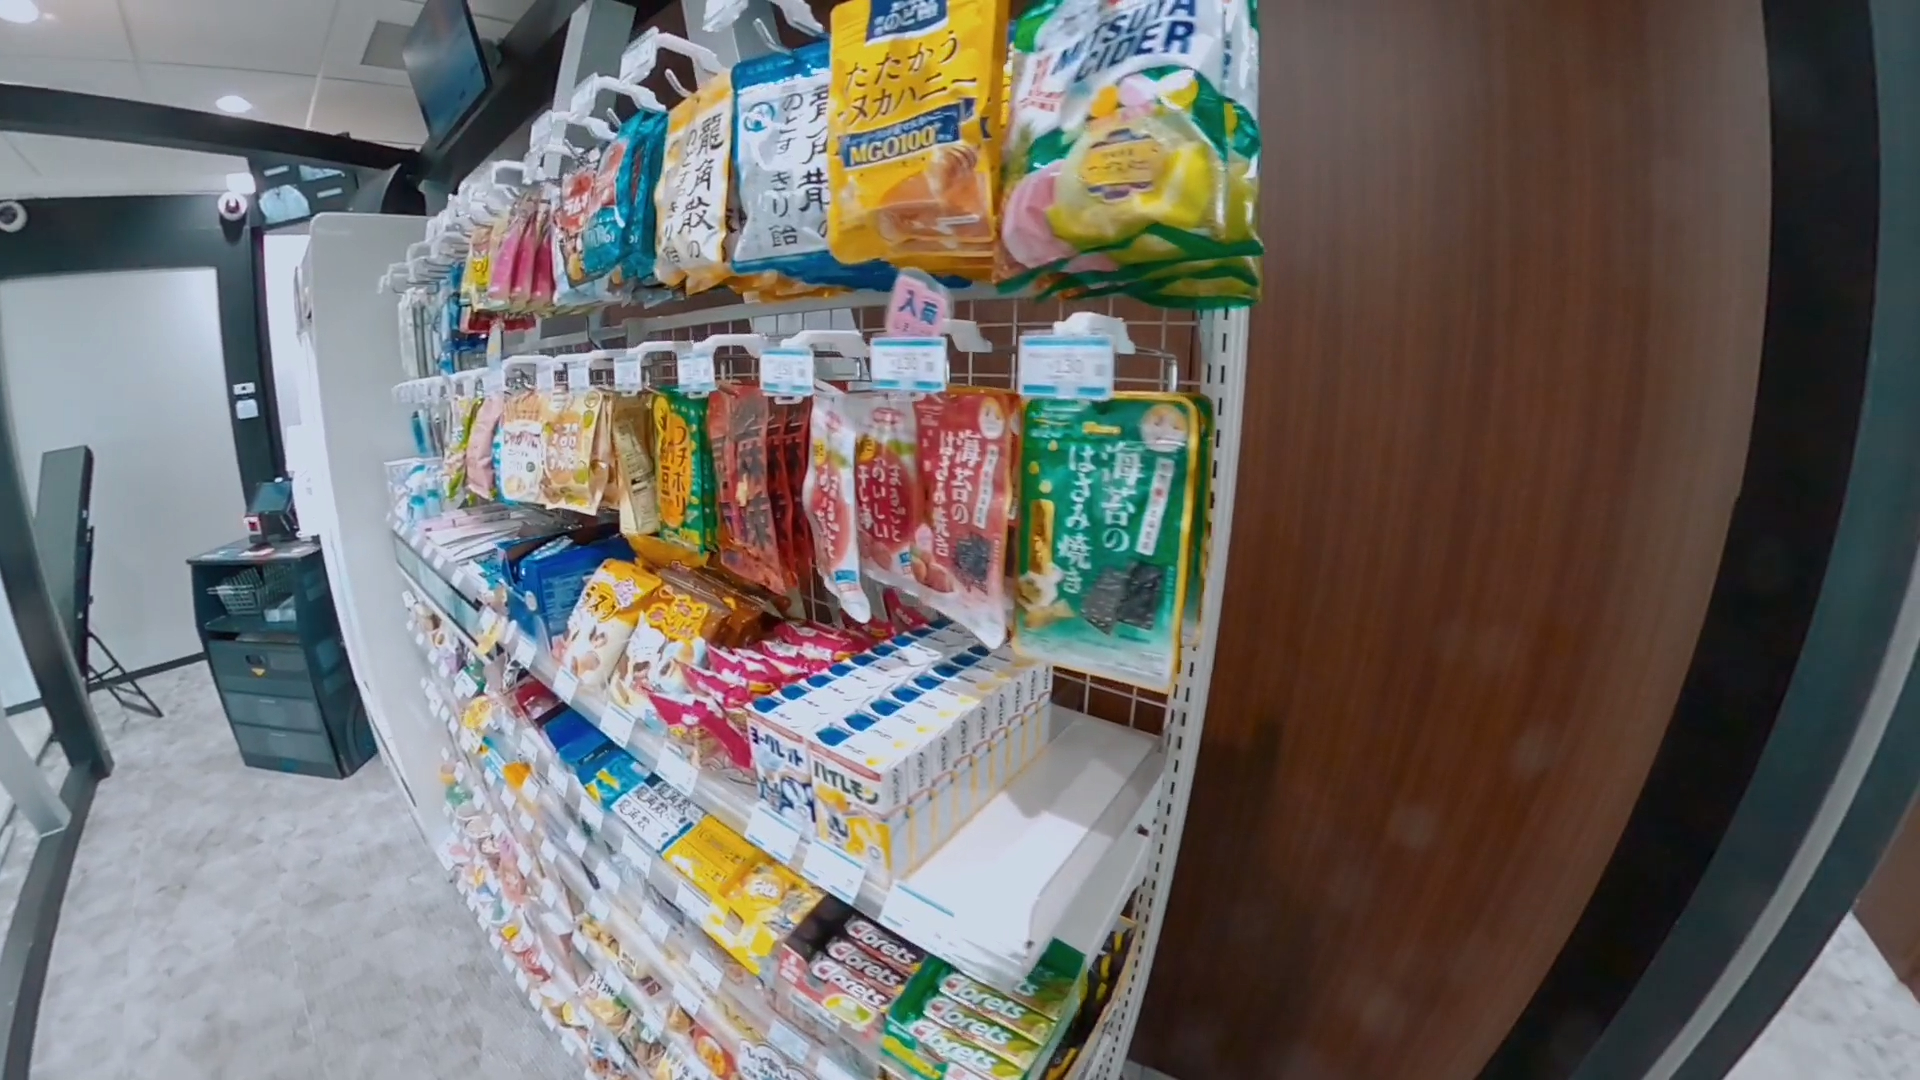NorinoHasamiyaki: (1013, 404, 1194, 689)
